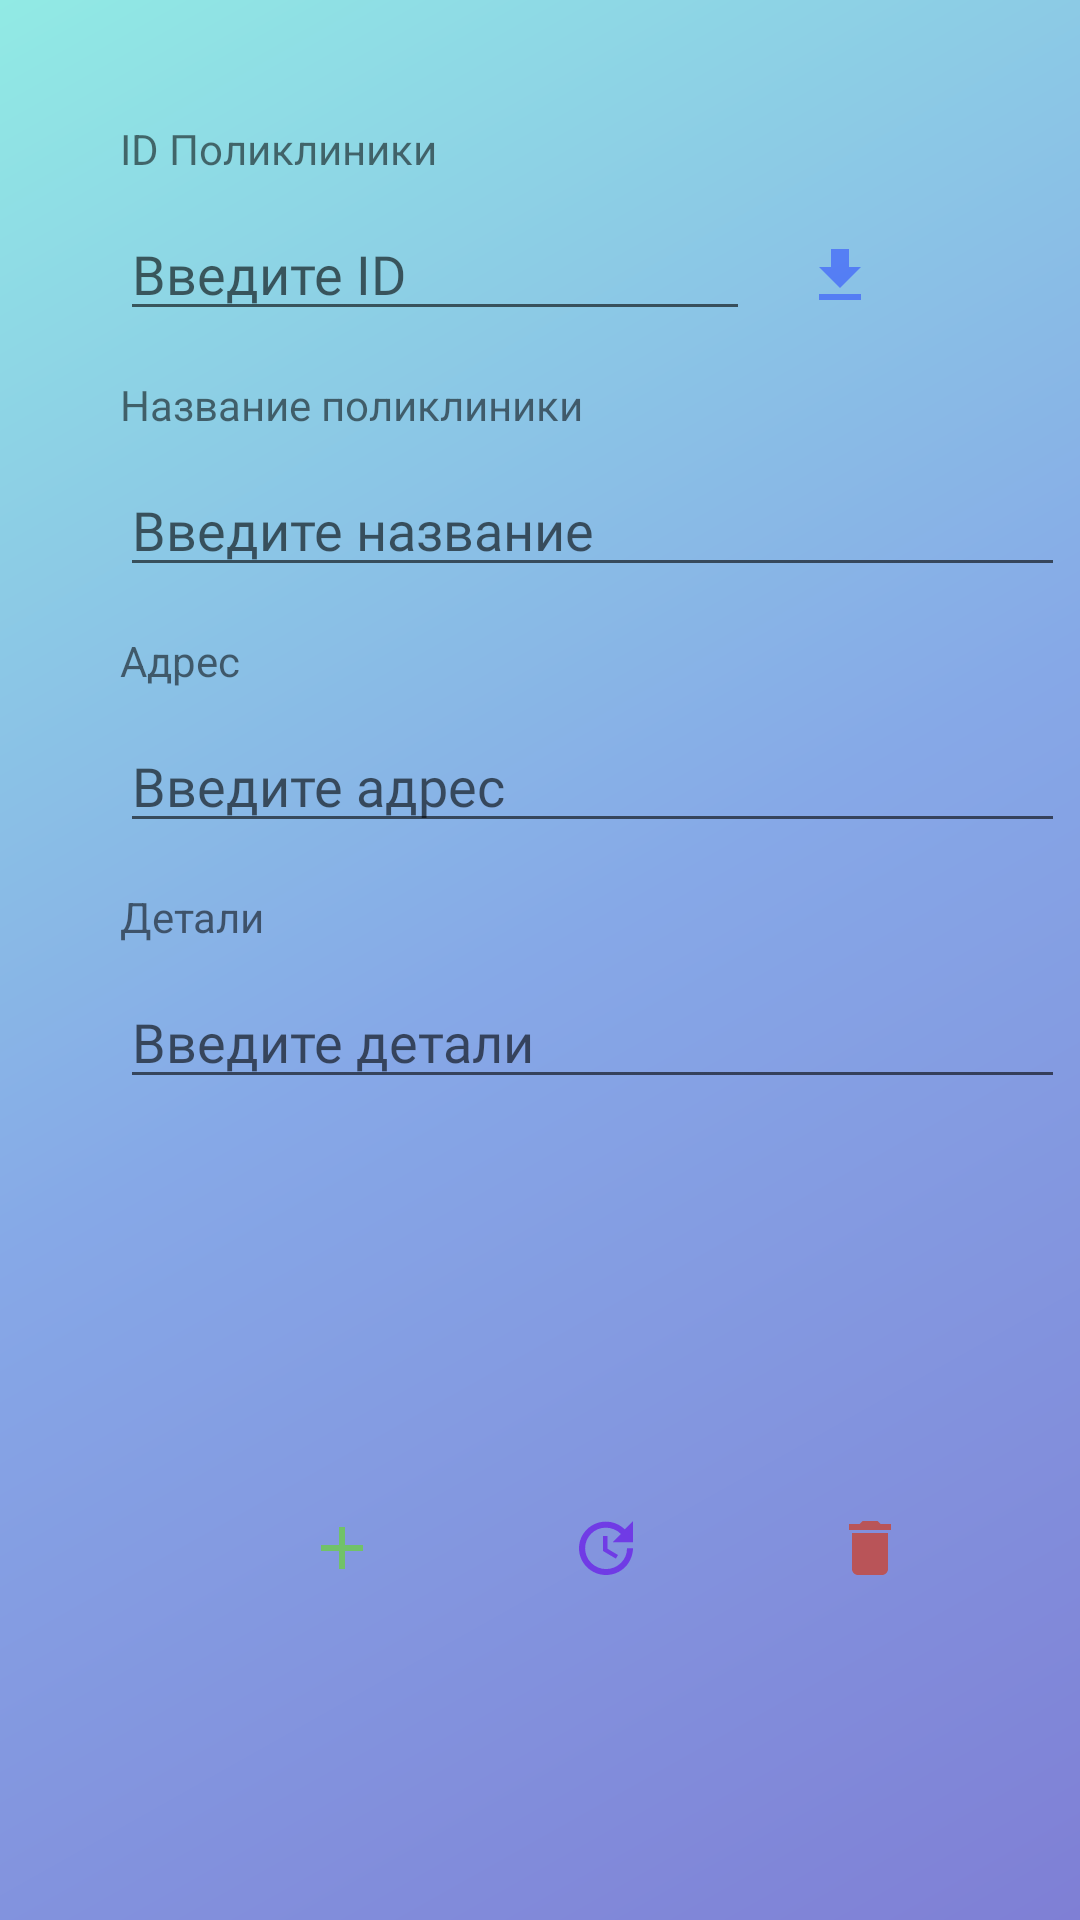

Icon click points for this 1080w x 1920h phone screenshot, format point (x, y):
add: point (342, 1548)
delete: point (870, 1548)
get: point (840, 274)
update: point (606, 1548)
